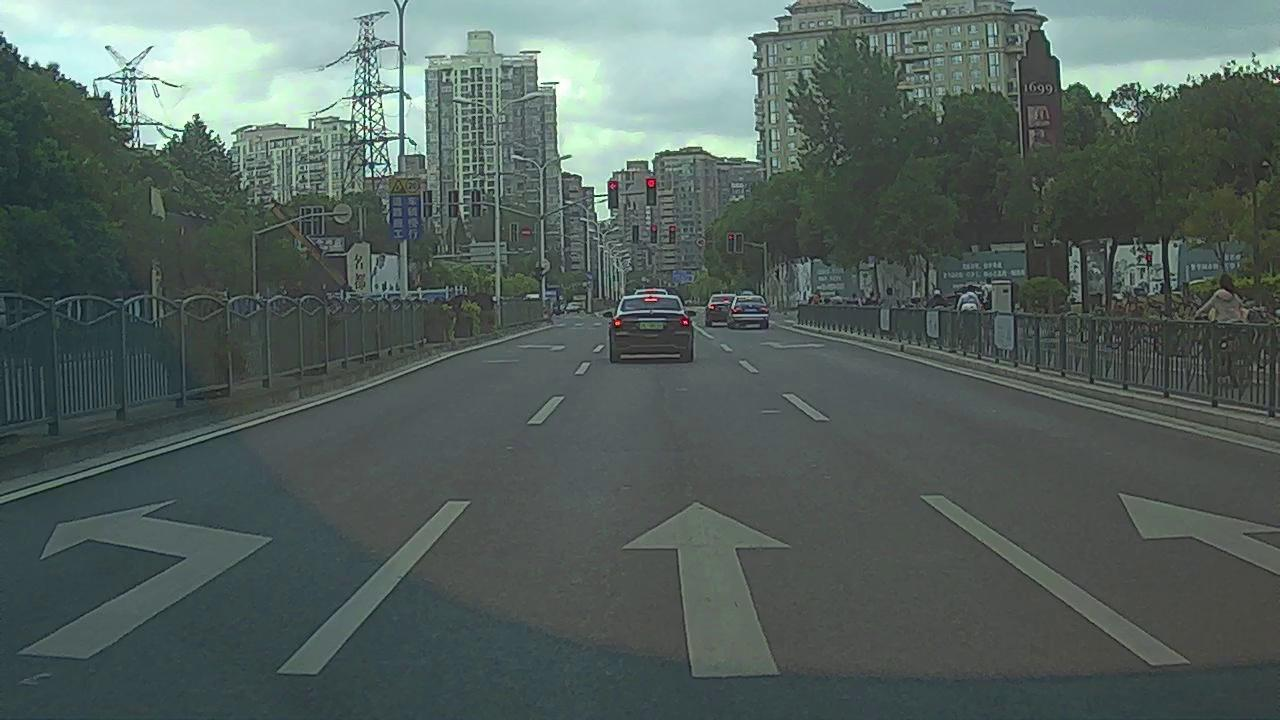traffic_light: (608, 182, 618, 208), (646, 179, 656, 205), (735, 234, 743, 252), (727, 234, 734, 252), (668, 226, 675, 243), (650, 225, 656, 243), (632, 226, 637, 240)
